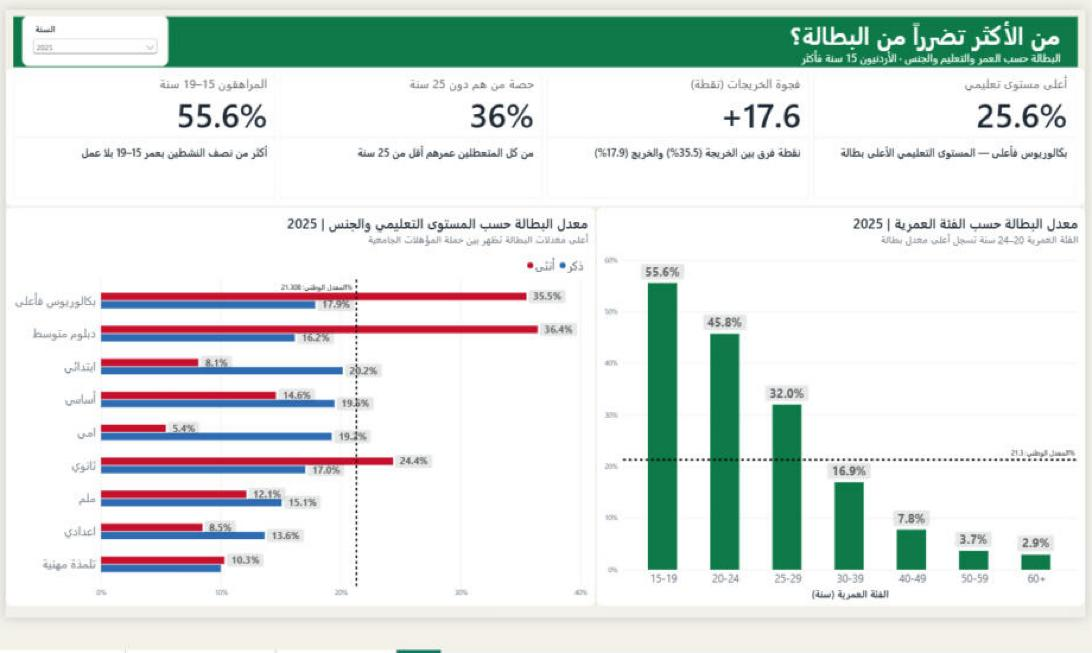

The page's visual inventory and layout, read from the dashboard file:
{"tool":"powerbi","page":{"name":"2. من الأكثر تضرراً؟","canvas":[1920,1080],"ordinal":1},"visuals":[{"type":"shape","box":[0,0,1920.1,130.3],"z":0},{"type":"textbox","box":[590,4,1300,110],"z":1000},{"type":"cardVisual","fields":{"Data":["Fact_LabourForce.Teen Rate","Fact_LabourForce.Under25 Share","Fact_LabourForce.Grad Gap pp","Fact_LabourForce.Top Edu Rate"]},"box":[0,101.3,1920.1,247.9],"z":2000},{"type":"clusteredBarChart","fields":{"Category":["Fact_LabourForce.Education"],"Series":["Fact_LabourForce.Sex"],"Y":["Fact_LabourForce.Rate Latest"]},"box":[0,349.3,1049.6,711.2],"z":4000},{"type":"clusteredColumnChart","fields":{"Category":["Fact_LabourForce.AgeGroup"],"Y":["Fact_LabourForce.Rate Latest"]},"box":[1049.6,349.3,870.4,711.2],"z":6000},{"type":"slicer","fields":{"Values":["Fact_LabourForce.Year"]},"box":[30,10,260,90],"z":7000}]}

Visuals, with their boxes on the page's 1920x1080 design canvas (x1, y1, x2, y2). These are canvas units, not pixel positions in the 1092x653 screenshot, which may show the page scaled, cropped or inside an application window:
shape: <region>0, 0, 1920, 130</region>
textbox: <region>590, 4, 1890, 114</region>
cardVisual - Fact_LabourForce.Teen Rate x Fact_LabourForce.Under25 Share: <region>0, 101, 1920, 349</region>
clusteredBarChart - Fact_LabourForce.Education x Fact_LabourForce.Sex: <region>0, 349, 1050, 1060</region>
clusteredColumnChart - Fact_LabourForce.AgeGroup x Fact_LabourForce.Rate Latest: <region>1050, 349, 1920, 1060</region>
slicer - Fact_LabourForce.Year: <region>30, 10, 290, 100</region>
